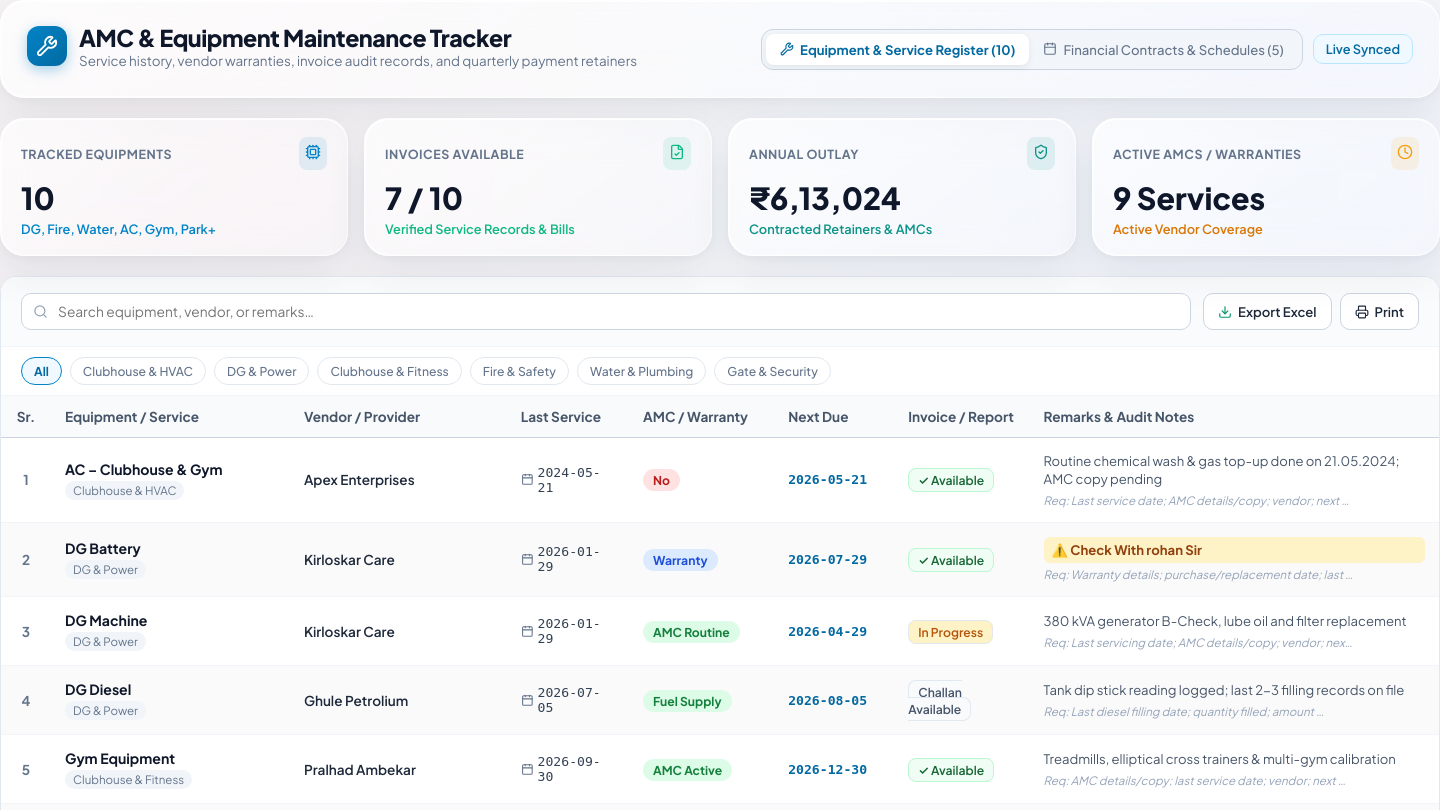
it: AmcTracker Component › switches between Equipment Register and Financial Contracts tabs
Click the button "Financial Contracts & Schedules (5)" at {"x": 1164, "y": 49}, box x1=1030 y1=34 x2=1298 y2=64
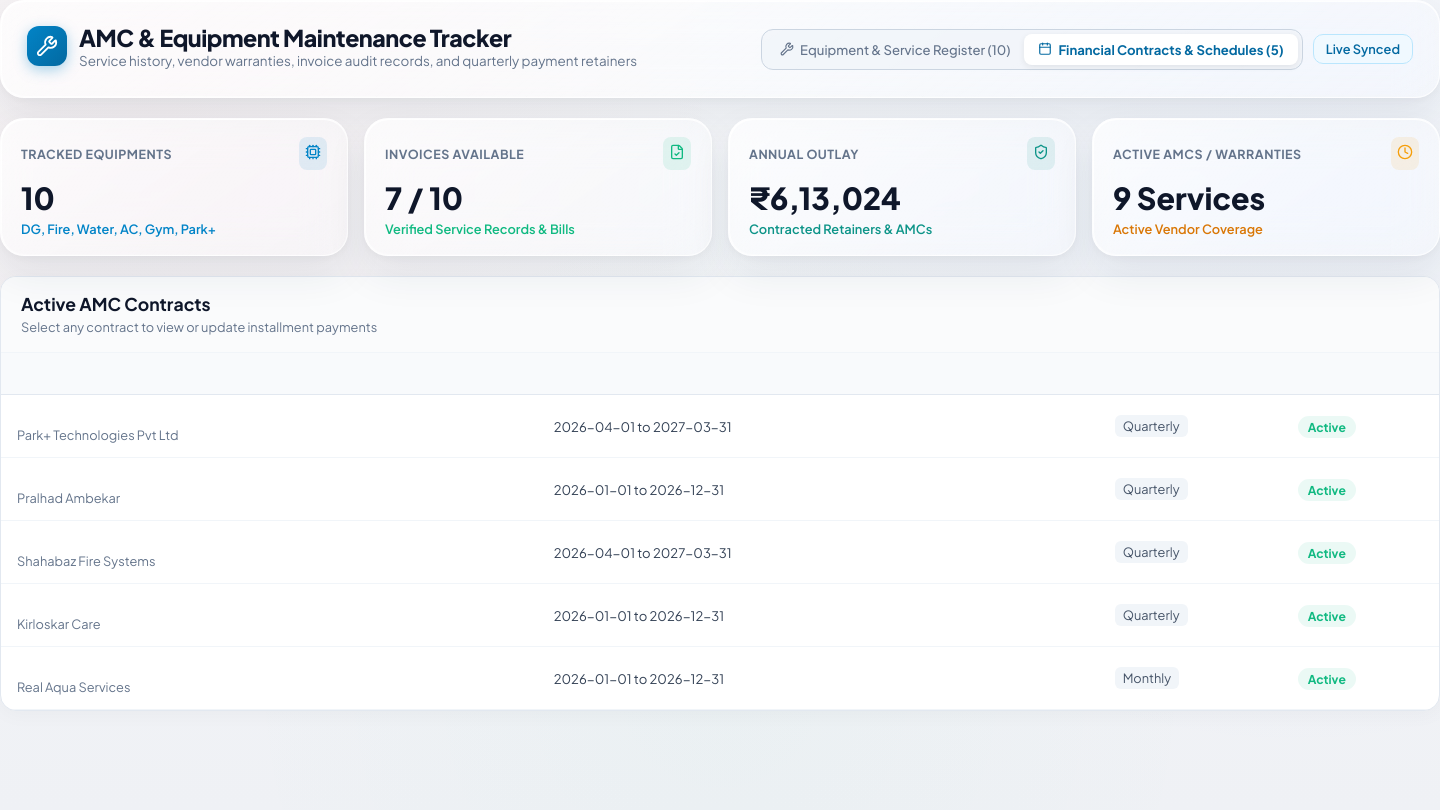
Check: the heading "Active AMC Contracts" is shown, box x1=21 y1=293 x2=211 y2=315
